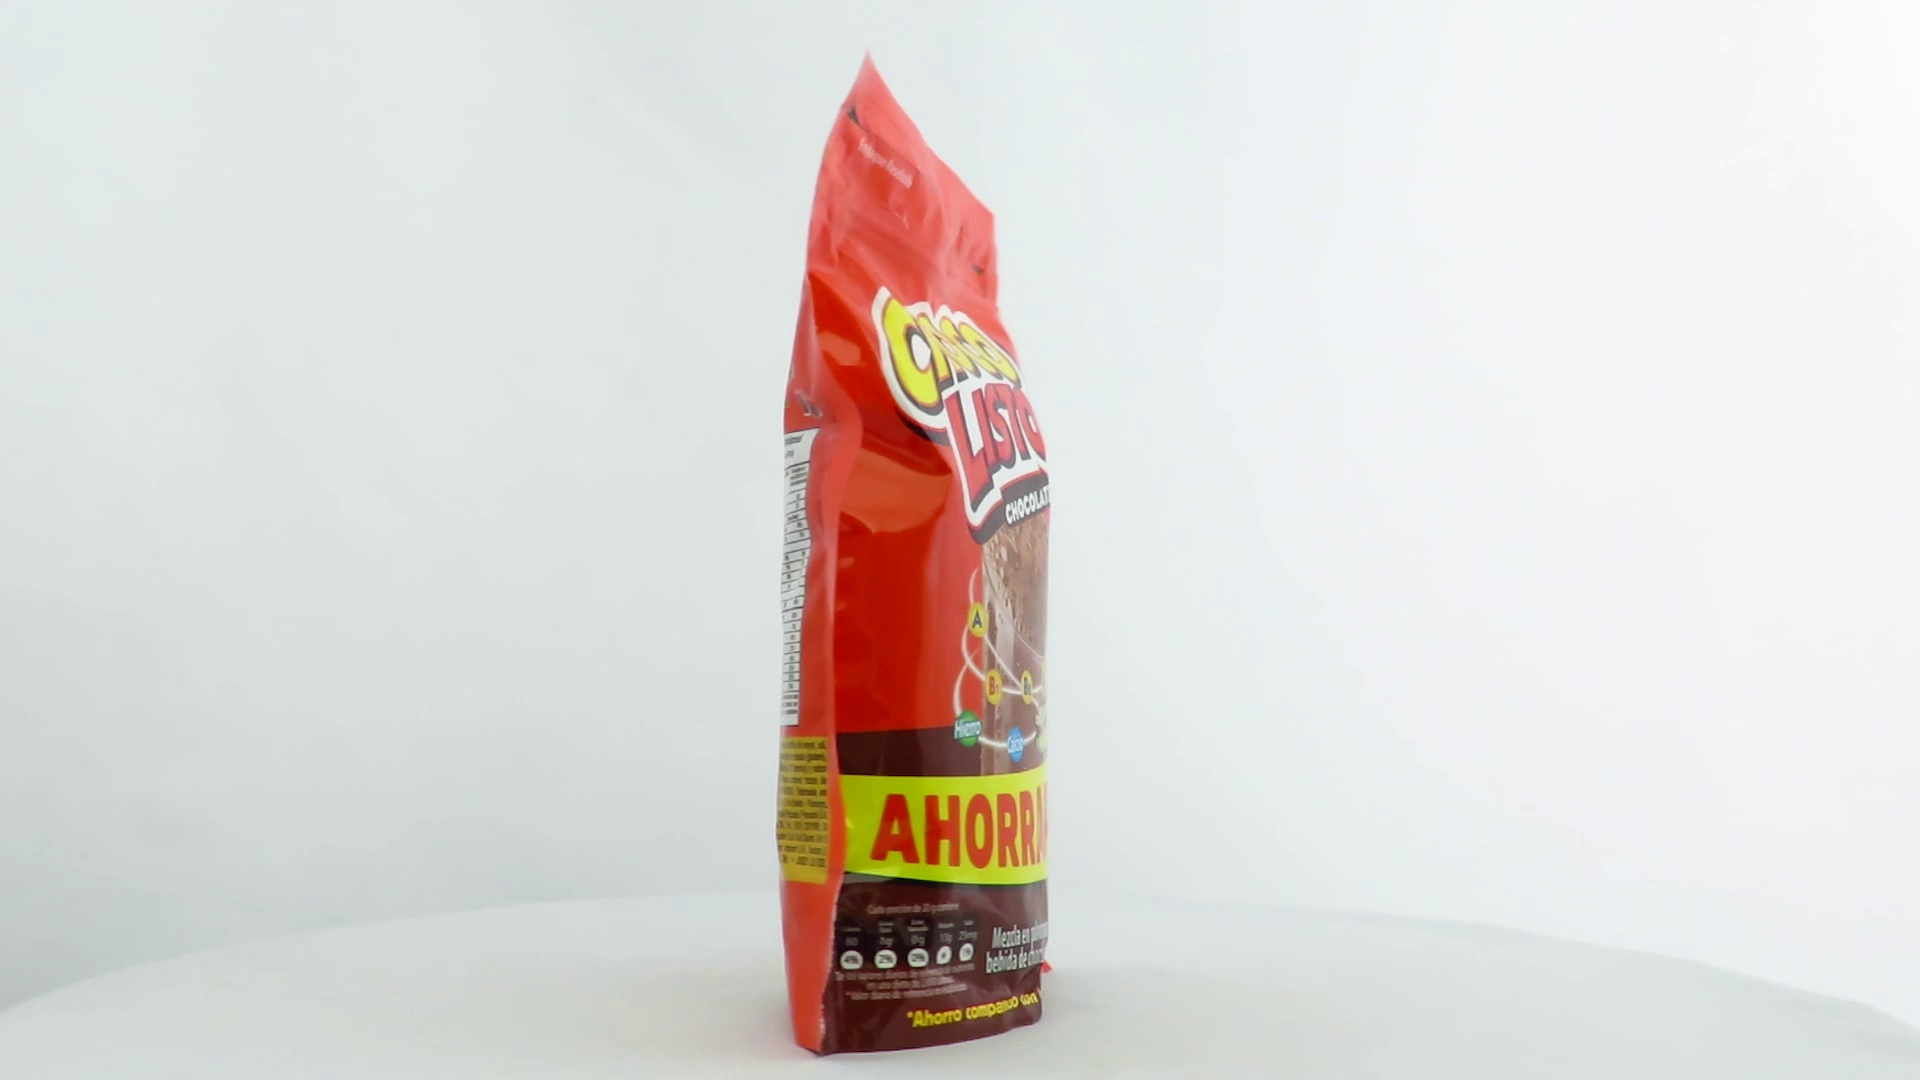COL0170103DYP40000: (770, 44, 1058, 1064)
